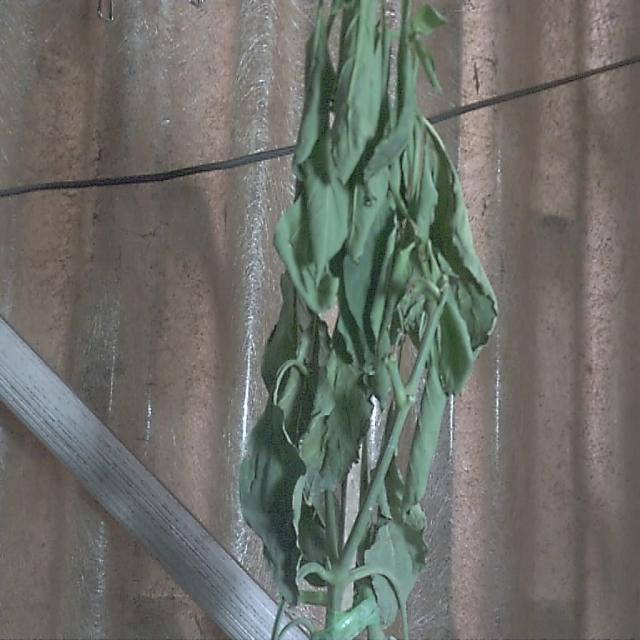Leaf: (236, 386, 306, 606), (332, 8, 383, 176), (400, 351, 450, 519), (276, 186, 342, 309), (292, 6, 331, 174)
